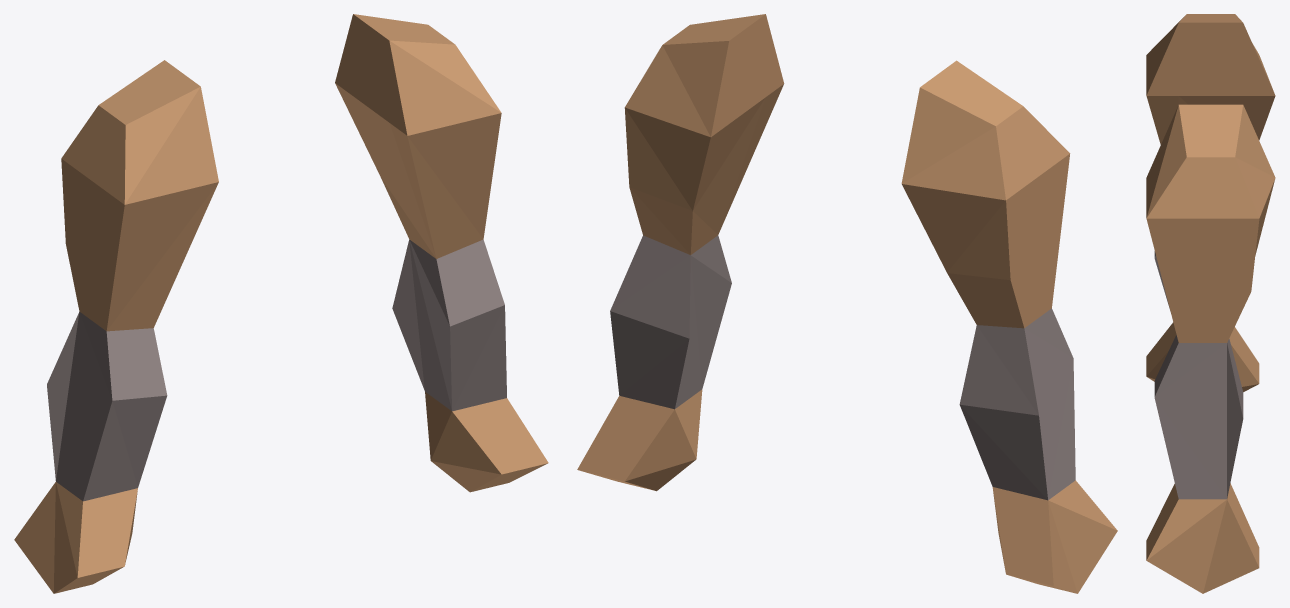
The model's file is npc_world_thurgo_2.obj.
The picture shows the model from 3 angles, left to right: view 1: azimuth 30°, elevation 25°; view 2: azimuth 150°, elevation 25°; view 3: azimuth 270°, elevation 25°; orthographic projection. The views are drawn at different scales.
Size of the model in its own units: 0.4688 by 0.4609 by 0.125.
